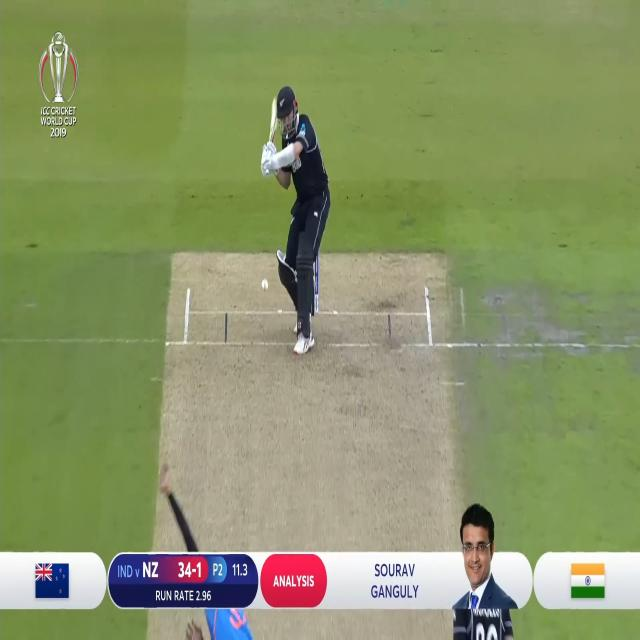ball: (260, 274, 270, 295)
